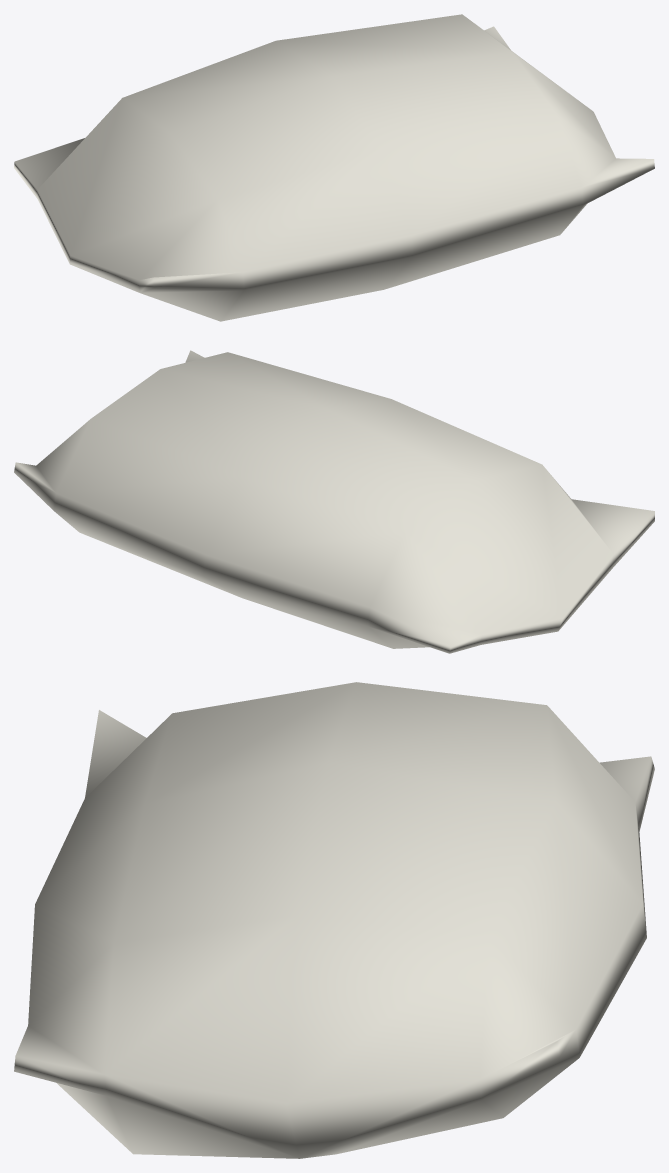
Rendered from PT_Pillow_01.fbx.
3 renders of one model, top to bottom at view 1: azimuth 30°, elevation 25°; view 2: azimuth 150°, elevation 25°; view 3: azimuth 270°, elevation 25°, orthographic. The views are drawn at different scales.
Parts seen in each view (by area): view 1: PT_Pillow_01; view 2: PT_Pillow_01; view 3: PT_Pillow_01.
Boxes of the visible parts, x1,y1,x2,y2 form: PT_Pillow_01: [14, 14, 654, 321]; PT_Pillow_01: [14, 350, 654, 653]; PT_Pillow_01: [14, 682, 654, 1158].
Bounding box in the file's own units: 74.59 × 25.28 × 50.48.
1 material, 1 textured.
